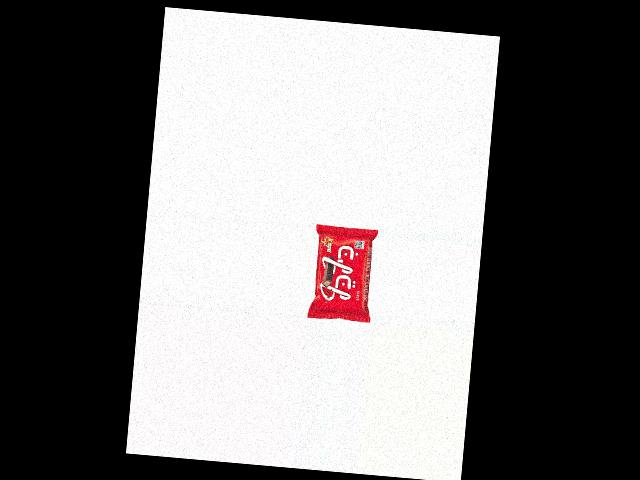chocolate: (307, 224, 379, 322)
